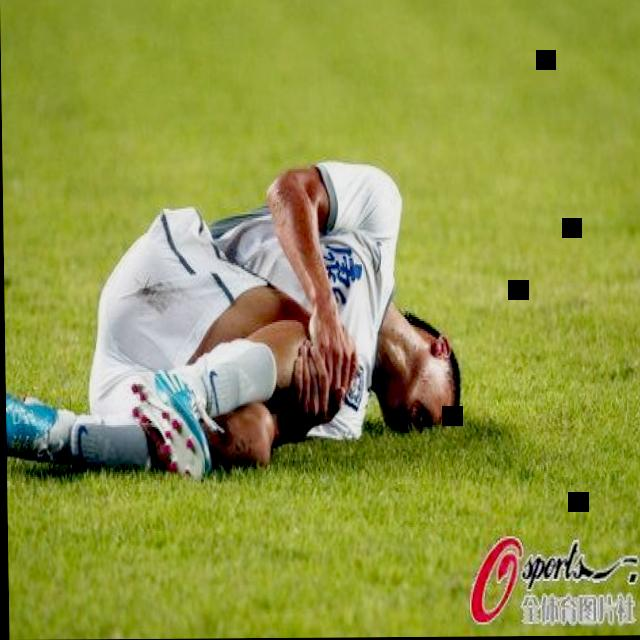Fall-Detected: (2, 137, 464, 497)
